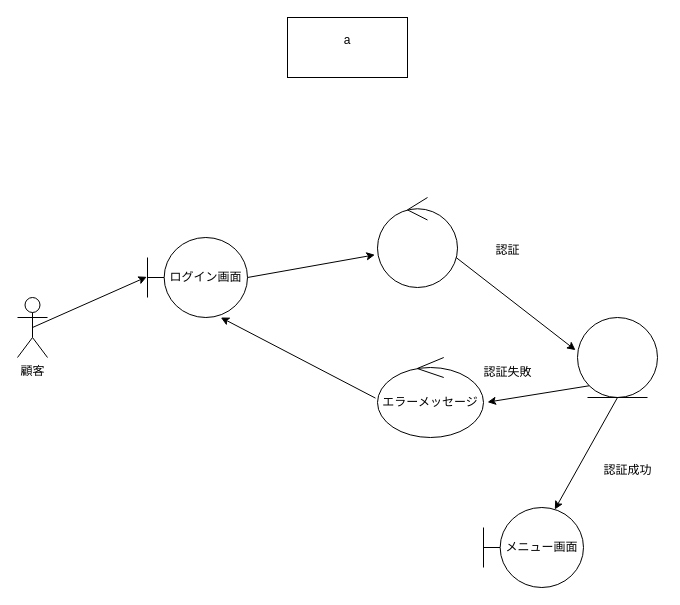
Image size: 680x605. Some labels were removed from this diagram. Here are the shapes that lost their labels. From the top down, the centre of each, then its label:
the point at 417,242: 顧客IDとパスワードを入力
the point at 617,357: 管理者データ
